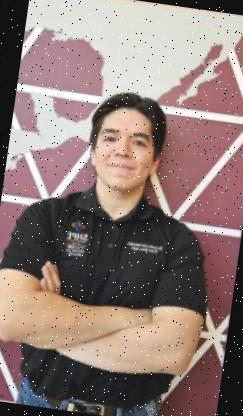person: (0, 73, 241, 416)
